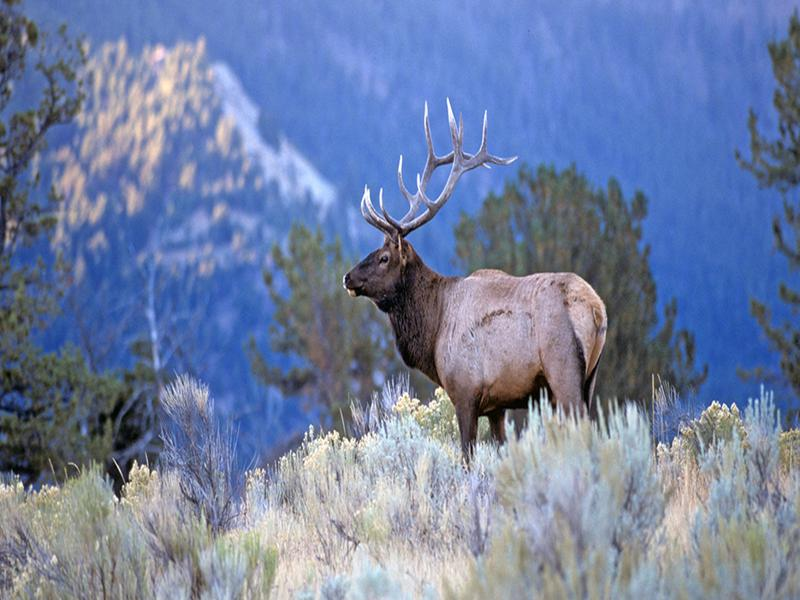elk: (341, 145, 612, 505)
